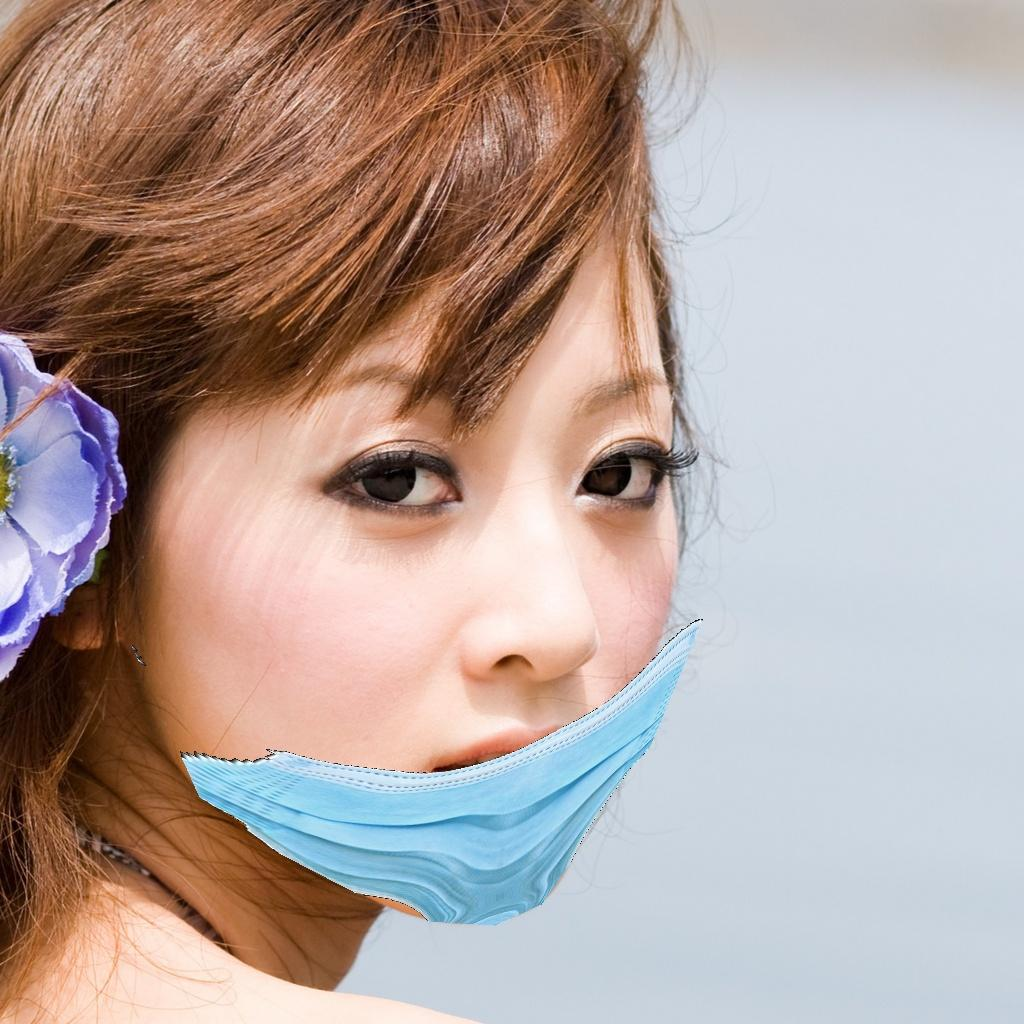Máscara Incorreta: (178, 188, 721, 934)
